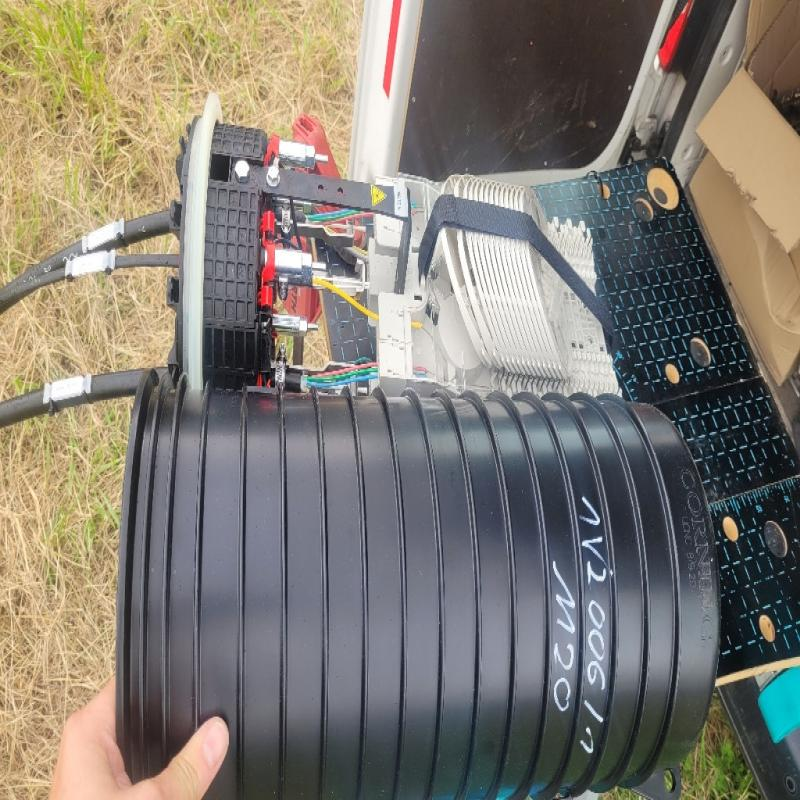NT-Muffen: (114, 93, 724, 800)
